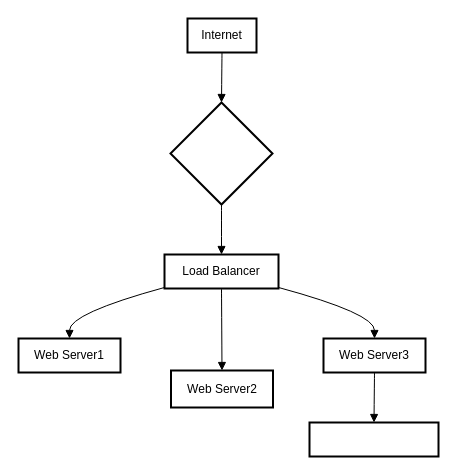
The diagram is 456 pixels wide and 474 high, and some of its shapes have lost their labels. The shapes that lost their labels are listed below. From the top down, each one's centre as x and y in pixels, then its label:
At point 221,153: "Firewall".
At point 373,439: "Database Server".
